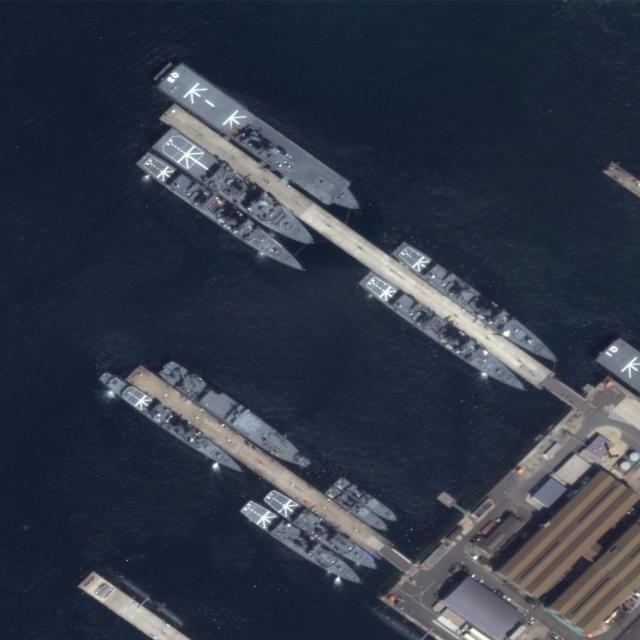Auxiliary Ships: (158, 355, 315, 476)
Destroyer: (131, 142, 314, 282), (356, 262, 536, 403), (386, 236, 568, 371), (98, 368, 247, 480), (239, 496, 369, 593), (261, 485, 382, 577)
Dock: (158, 103, 585, 407), (125, 361, 414, 577)
Landing: (149, 52, 370, 224)
Other Warship: (323, 484, 392, 536), (334, 474, 401, 525)
Submarine: (111, 570, 189, 628)
